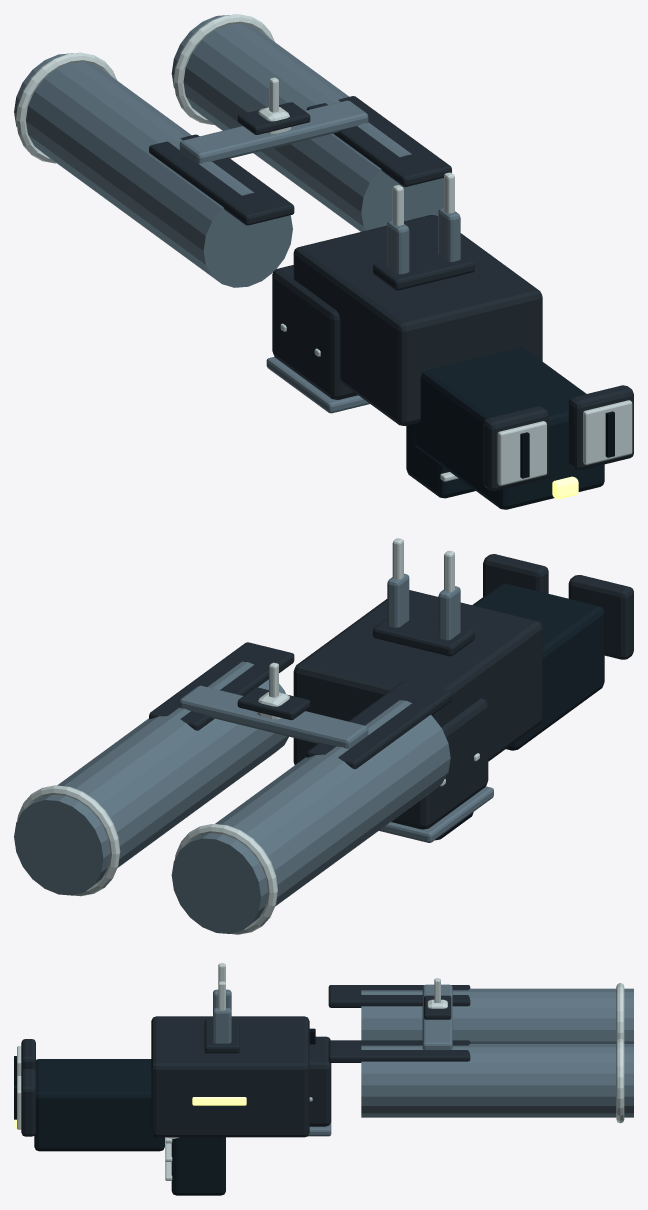
File: weapon-3.glb
3 renders of one model, top to bottom at view 1: azimuth 30°, elevation 25°; view 2: azimuth 150°, elevation 25°; view 3: azimuth 270°, elevation 25°, orthographic. The views are drawn at different scales.
Visible parts, largest first — view 1: barrel-assembly-light, body-dark, body-rubber, body-light, body-trim, feed-dark, barrel-assembly-trim, feed-light, body-cavity; view 2: barrel-assembly-light, body-dark, body-rubber, body-light, feed-dark, barrel-assembly-trim, body-trim, feed-light; view 3: barrel-assembly-light, body-dark, body-rubber, body-light, feed-dark, body-trim, barrel-assembly-trim, body-glow.
Part boxes in pixels (box(x1,y1,x2,y2)): barrel-assembly-light: box(14, 15, 443, 287); body-dark: box(149, 96, 633, 491); body-rubber: box(406, 347, 604, 509); body-light: box(179, 100, 460, 274); body-trim: box(258, 77, 632, 485); feed-dark: box(272, 265, 357, 399); barrel-assembly-trim: box(16, 14, 274, 163); feed-light: box(266, 356, 369, 413); body-cavity: box(520, 411, 614, 478); barrel-assembly-light: box(14, 661, 450, 933); body-dark: box(149, 554, 633, 769); body-rubber: box(435, 583, 604, 840); body-light: box(179, 573, 460, 748); feed-dark: box(391, 698, 488, 829); barrel-assembly-trim: box(17, 785, 277, 934); body-trim: box(257, 538, 454, 719); feed-light: box(379, 786, 493, 842); barrel-assembly-light: box(361, 988, 633, 1117); body-dark: box(21, 985, 470, 1137); body-rubber: box(34, 1059, 225, 1195); body-light: box(213, 984, 452, 1050); feed-dark: box(309, 1036, 331, 1126); body-trim: box(17, 963, 447, 1180); barrel-assembly-trim: box(616, 983, 624, 1123); body-glow: box(14, 1097, 246, 1128).
Size of the model in its own units: 0.397 by 0.4245 by 1.14.
